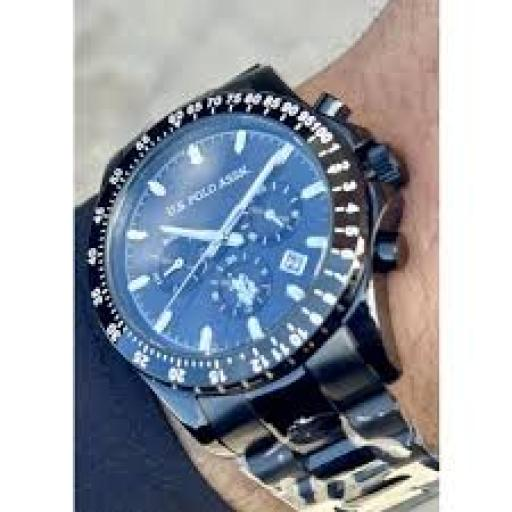KolSaati: (73, 20, 437, 512)
